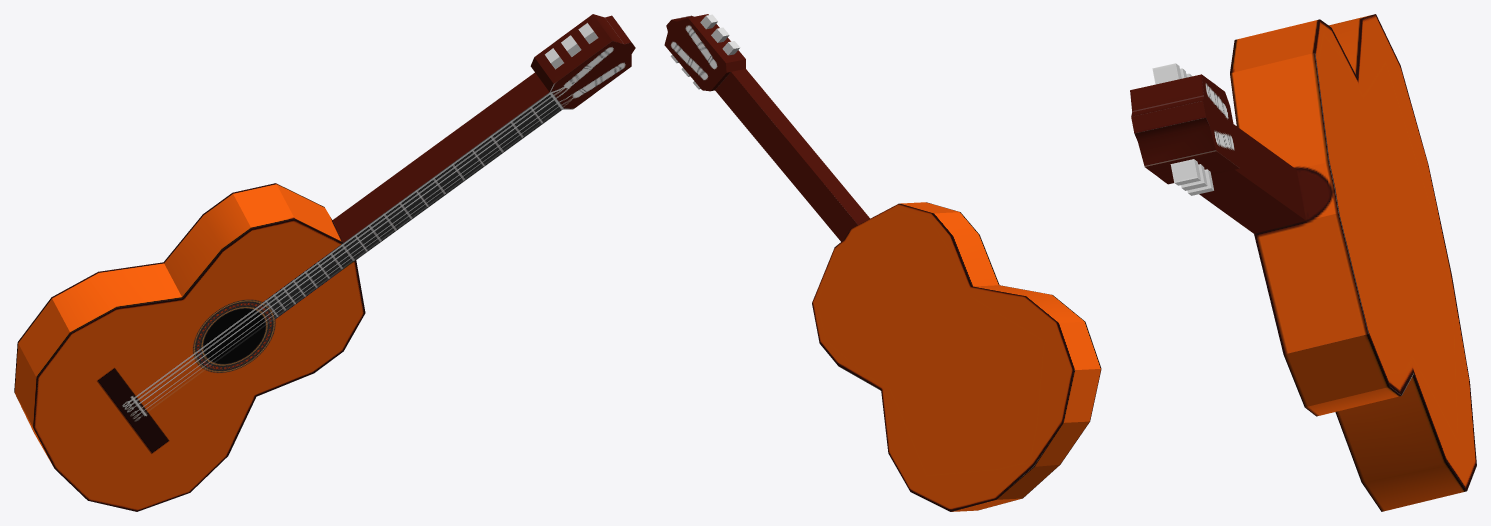
The model's file is Guitarra2_000012.obj.
3 views of the same model, side by side, from view 1: azimuth 30°, elevation 25°; view 2: azimuth 150°, elevation 25°; view 3: azimuth 270°, elevation 25° (orthographic). The views are drawn at different scales.
Parts seen in each view (by area): view 1: g2_pPlane4.001; view 2: g2_pPlane4.001; view 3: g2_pPlane4.001.
Boxes of the visible parts, box(x1,y1,x2,y2) form: g2_pPlane4.001: box(14, 14, 635, 511); g2_pPlane4.001: box(664, 14, 1101, 511); g2_pPlane4.001: box(1130, 14, 1476, 511).
Bounding box in the file's own units: 10.87 × 8.41 × 3.59.
